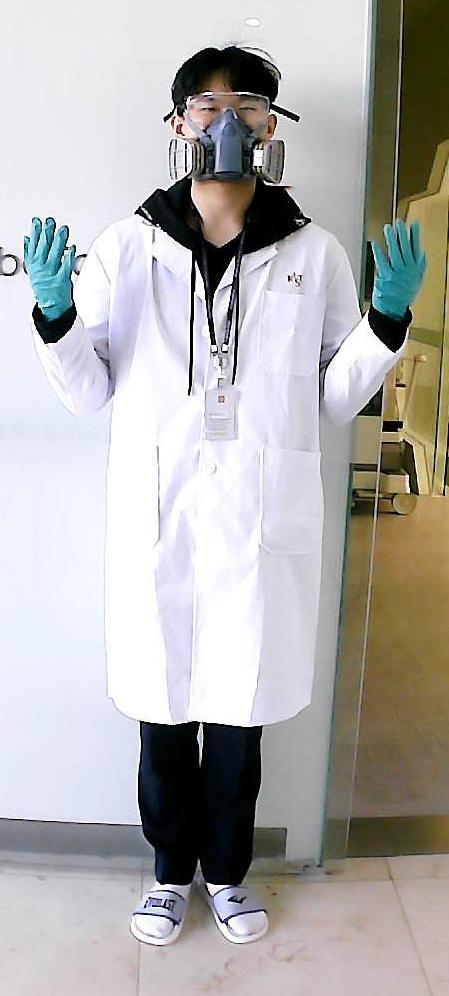lab_coat: (95, 226, 336, 711)
